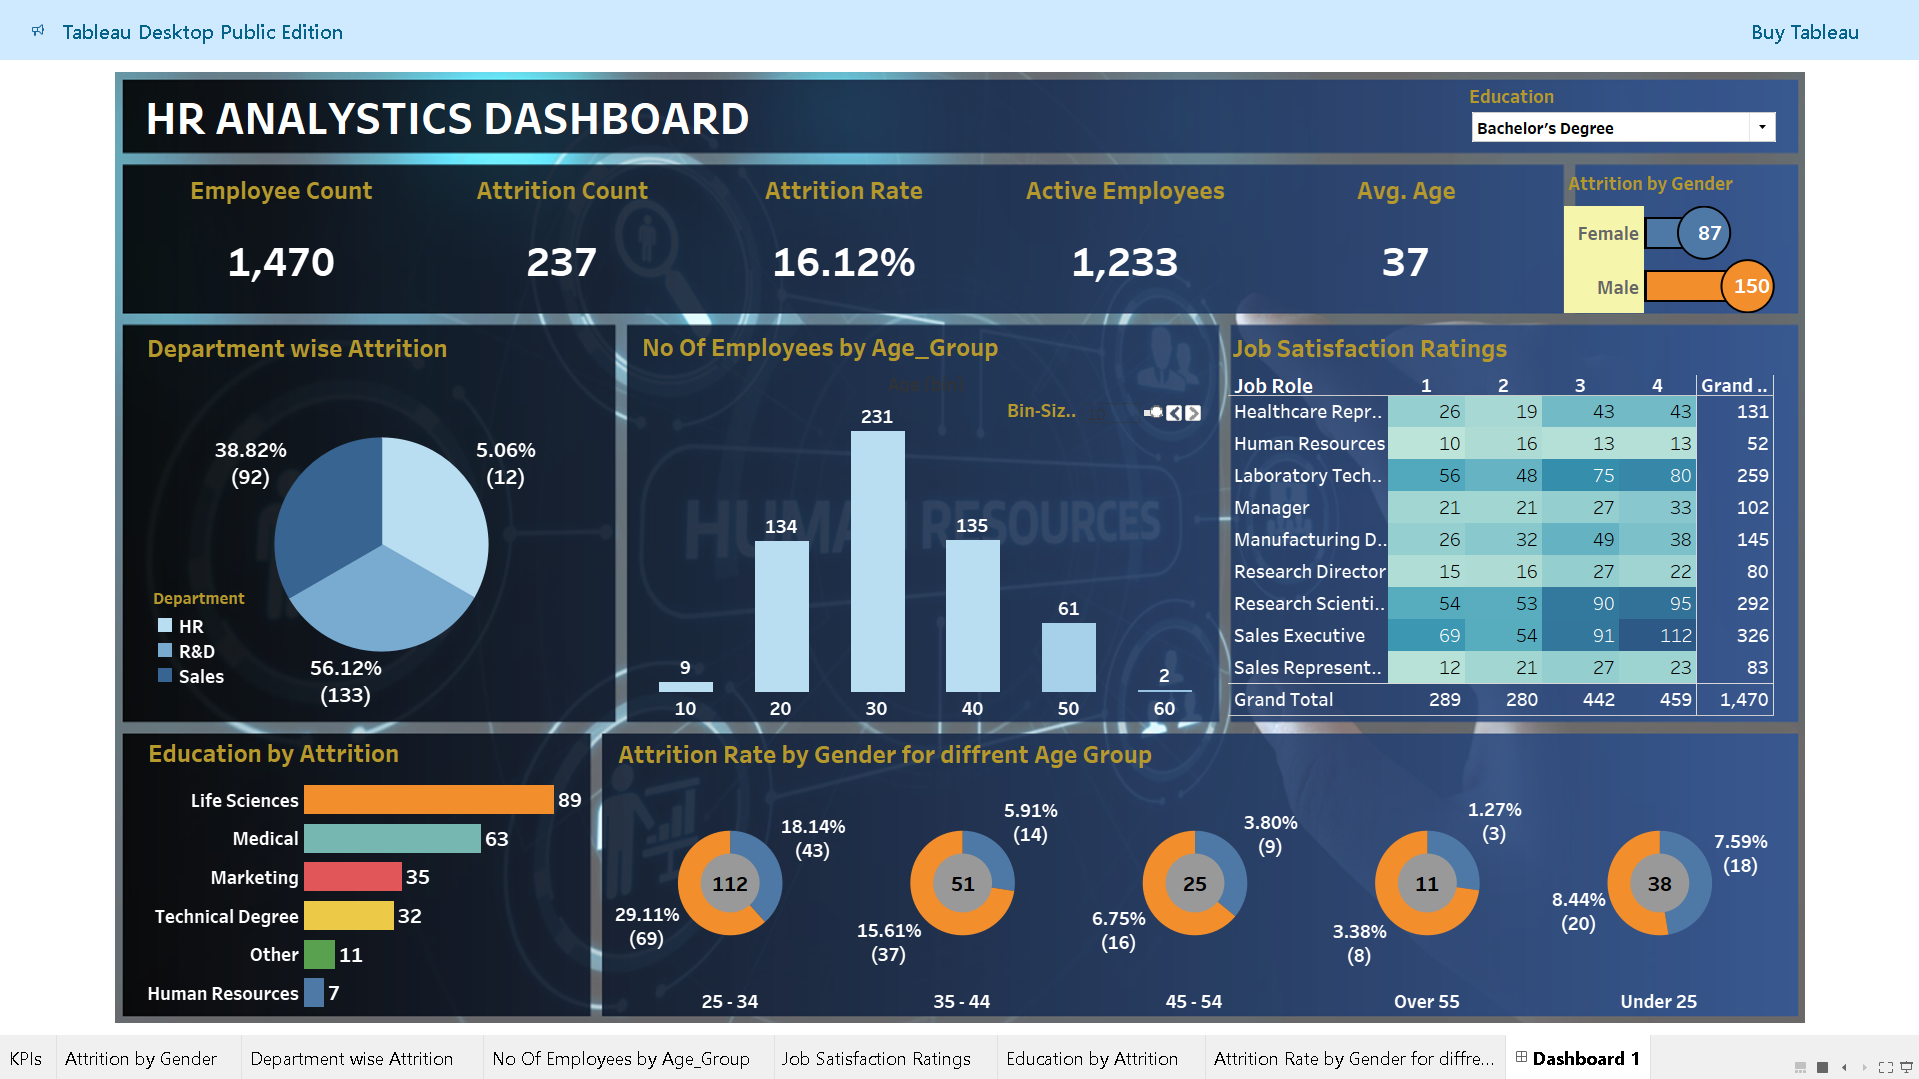

This screenshot's page, from the dashboard's own definition file:
{"tool":"tableau","page":{"name":"Dashboard 1","canvas":[1000,1000],"units":"permille","ordinal":0},"visuals":[{"type":"image","param":"C:/Users/user/Downloads/HR background.png","box":[5,9.8,990,980.4]},{"type":"text","box":[73.7,20.8,401.7,73.4]},{"type":"filter","title":"No Of Employees by Age_Group","param":"[federated.1hjg18a170rqrs10akxwq1qgyukw].[none:Education:nk]","box":[765.1,23.2,161.3,73.4]},{"type":"worksheet","title":"KPIs","mark":"Automatic","box":[73.7,108.8,732.2,151.6]},{"type":"worksheet","title":"Attrition by Gender","mark":"Automatic","rows":["Gender"],"cols":["Calculation_779685699515727872","Calculation_779685699515727872"],"box":[814.4,108.8,111.4,150.4]},{"type":"worksheet","title":"No Of Employees by Age_Group","mark":"Automatic","rows":["Employee Count"],"cols":["Age (bin)"],"box":[332.3,272.6,299.4,404.7]},{"type":"worksheet","title":"Department wise Attrition","mark":"Pie","box":[74.2,273.8,248.3,397.3]},{"type":"worksheet","title":"Job Satisfaction Ratings","mark":"Square","rows":["Job Role"],"cols":["Job Satisfaction"],"box":[639.7,273.8,284.2,398.5]},{"type":"parameter","param":"[Parameters].[Parameter 1]","box":[524.6,348.4,102.9,39.1]},{"type":"legend","title":"Department wise Attrition","param":"[federated.1hjg18a170rqrs10akxwq1qgyukw].[none:Department:nk]","box":[79.7,540.3,61.5,123.5]},{"type":"worksheet","title":"Education by Attrition","mark":"Automatic","rows":["Education Field"],"cols":["Calculation_779685699515727872"],"box":[74.9,689.5,236.8,287.3]},{"type":"worksheet","title":"Attrition Rate by Gender for diffrent Age Group","mark":"Pie","rows":["Calculation_779685699536936965","Calculation_779685699536936965"],"cols":["CF_age band"],"box":[319.5,690.7,605,288.5]}]}

Visuals, with their boxes on the dashboard's canvas, which has no fixed pixel size, in thousandths of its width and height (x1, y1, x2, y2). These are canvas units, not pixel positions in the 1919x1079 screenshot, which may show the page scaled, cropped or inside an application window:
image: box(5, 10, 995, 990)
text: box(74, 21, 475, 94)
"No Of Employees by Age_Group" filter: box(765, 23, 926, 97)
"KPIs" worksheet: box(74, 109, 806, 260)
"Attrition by Gender" worksheet: box(814, 109, 926, 259)
"No Of Employees by Age_Group" worksheet: box(332, 273, 632, 677)
"Department wise Attrition" worksheet (Pie marks): box(74, 274, 322, 671)
"Job Satisfaction Ratings" worksheet (Square marks): box(640, 274, 924, 672)
parameter: box(525, 348, 628, 388)
"Department wise Attrition" legend: box(80, 540, 141, 664)
"Education by Attrition" worksheet: box(75, 690, 312, 977)
"Attrition Rate by Gender for diffrent Age Group" worksheet (Pie marks): box(320, 691, 924, 979)
